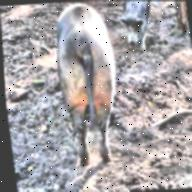boar: (34, 0, 146, 157)
